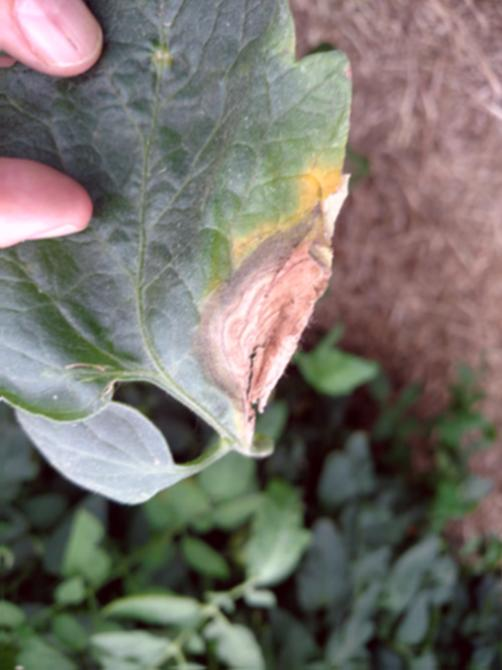Tomato mold leaf: (1, 0, 358, 512)
